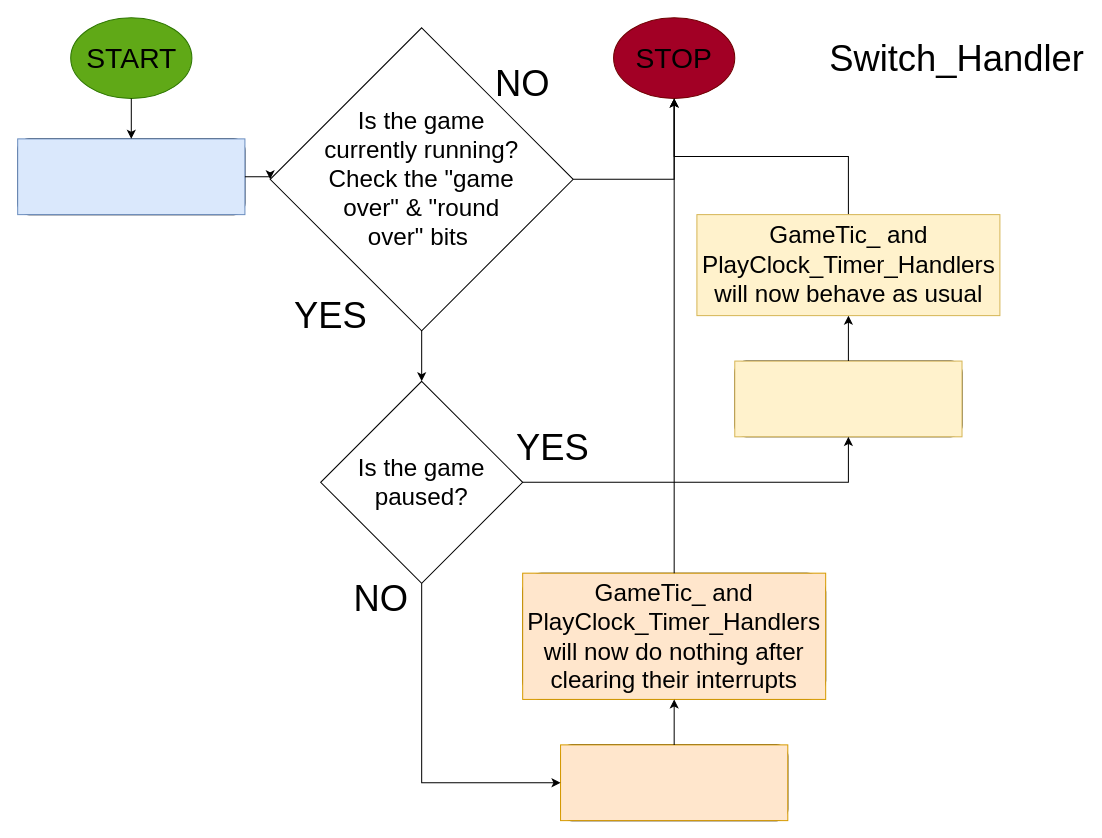
This 1102x838 diagram has some shape labels left out. The centre of each missing label's shape, as x and y in pixels:
Clear the interrupt: point 131,176
Paused: Clear the "paused" bit: point 848,398
Unpaused: Set the "paused" bit: point 674,782
